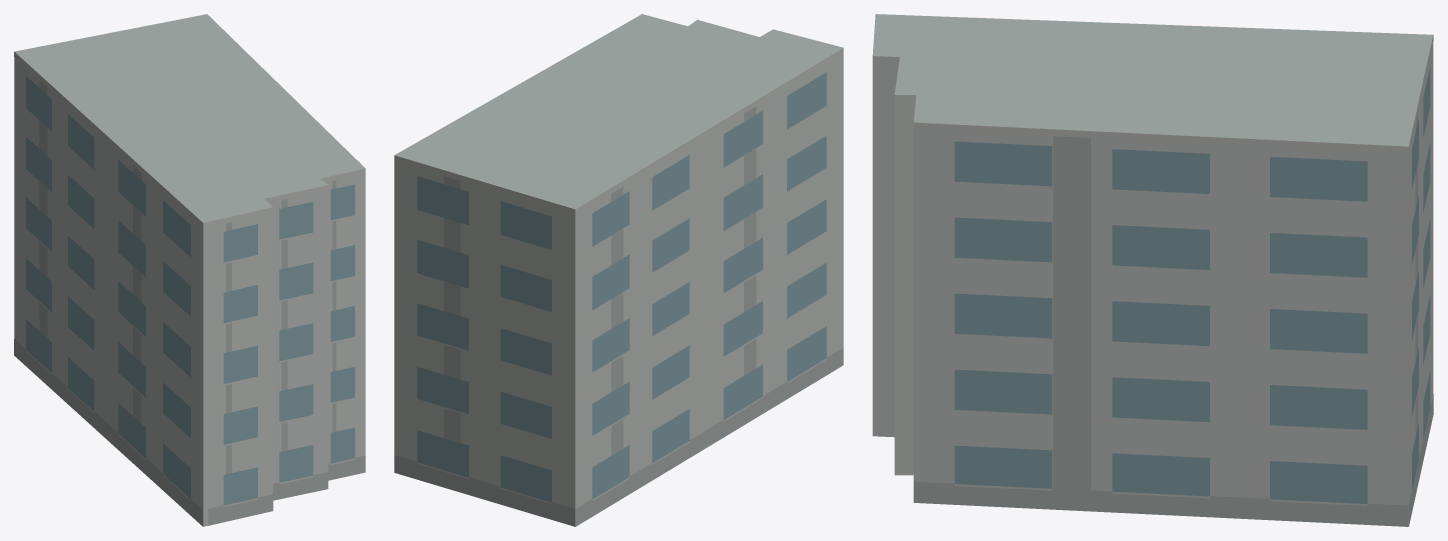
File: survey-upis-32820719.glb
3 renders of one model, left to right at view 1: azimuth 30°, elevation 25°; view 2: azimuth 150°, elevation 25°; view 3: azimuth 270°, elevation 25°, orthographic. The views are drawn at different scales.
Visible parts, largest first — view 1: survey-upis-32820719.tmp; view 2: survey-upis-32820719.tmp; view 3: survey-upis-32820719.tmp.
Part boxes in pixels (left/top/right/bottom): survey-upis-32820719.tmp: left=14, top=14, right=365, bottom=526; survey-upis-32820719.tmp: left=394, top=14, right=843, bottom=526; survey-upis-32820719.tmp: left=872, top=14, right=1433, bottom=526.
Size of the model in its own units: 9.96 by 13.3 by 17.78.
